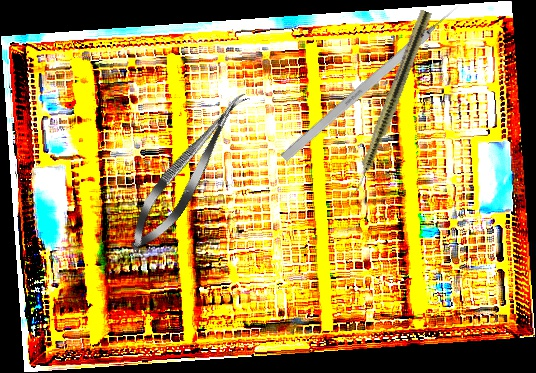Handpiece: (346, 8, 433, 202)
Hook Surgical: (280, 0, 464, 163)
Micro Scissor: (118, 81, 259, 261)
